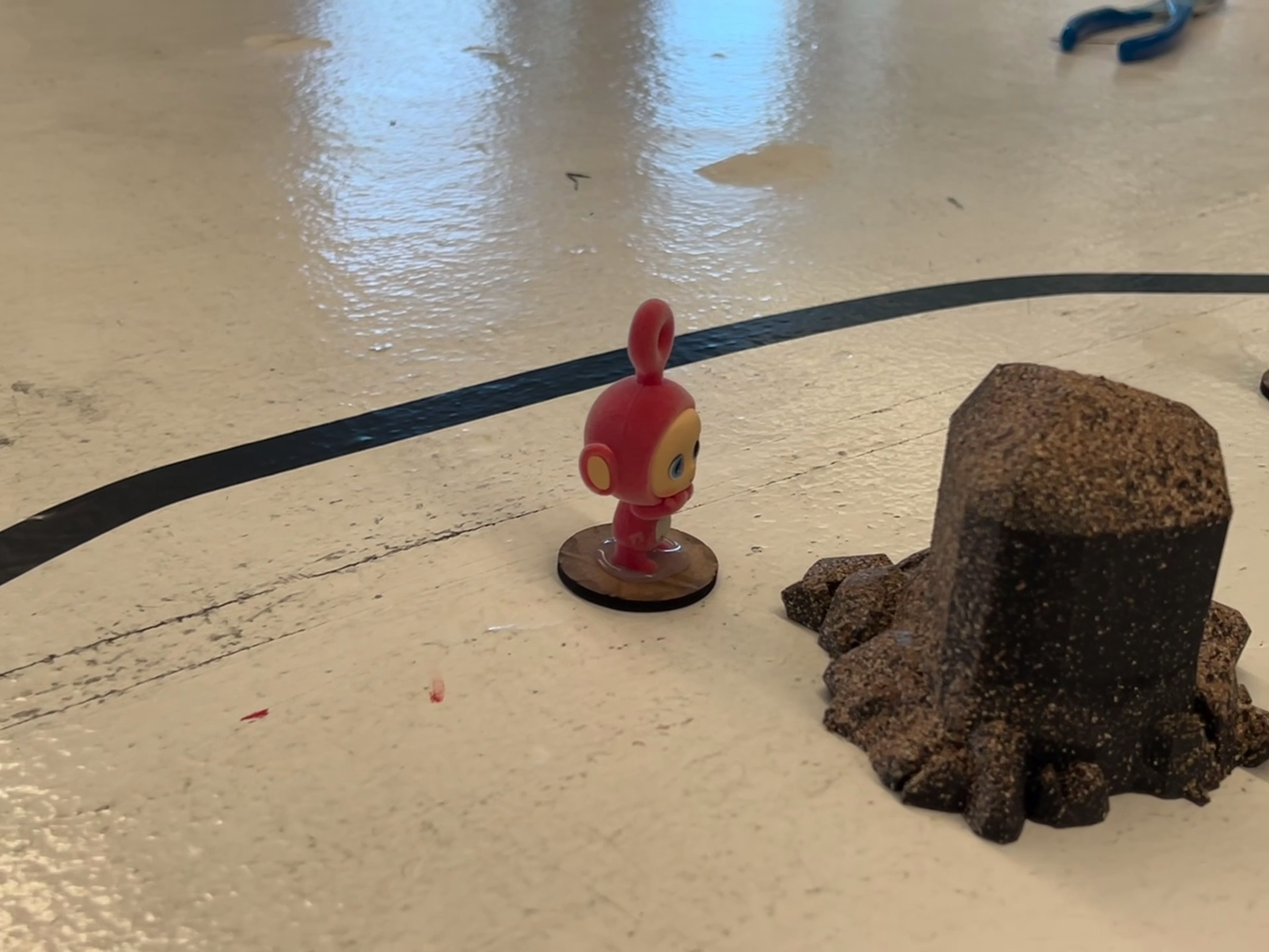teletubby: (578, 299, 701, 574)
